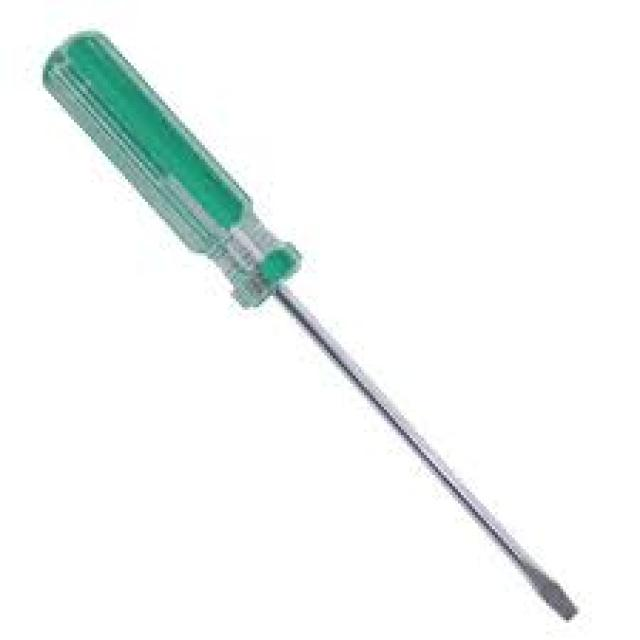Screwdriver: (44, 32, 578, 619)
